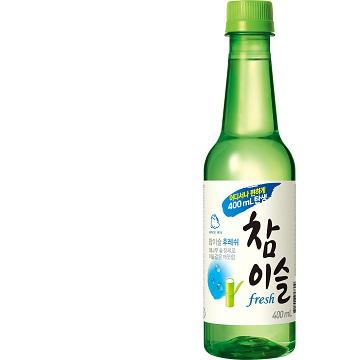soju: (200, 2, 299, 360)
